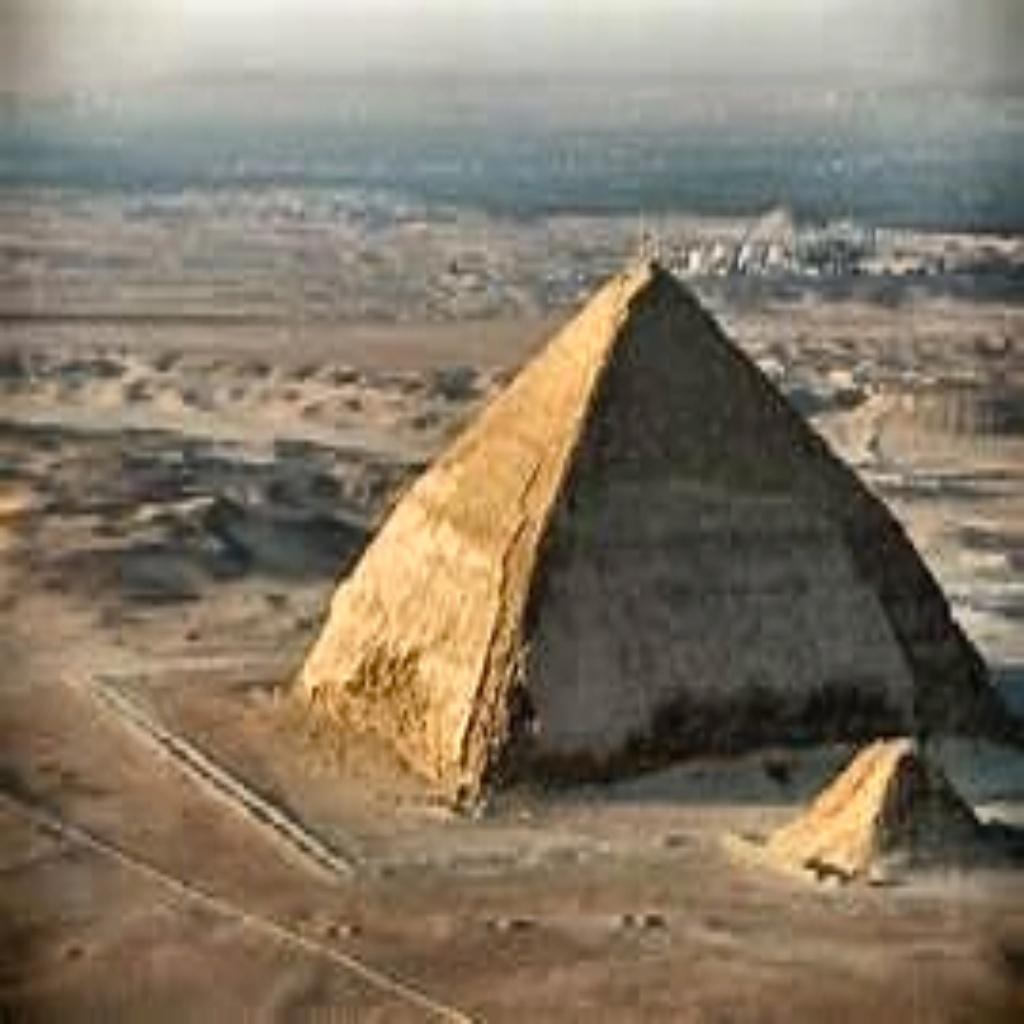Bent Pyramid of King Sneferu: (274, 240, 1012, 830)
